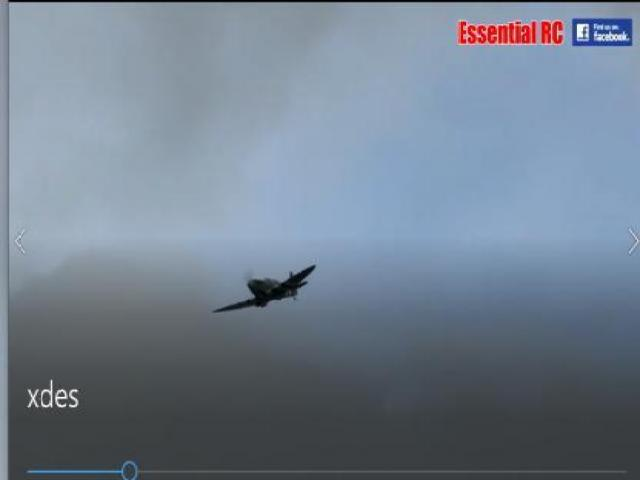uav: (208, 256, 322, 326)
